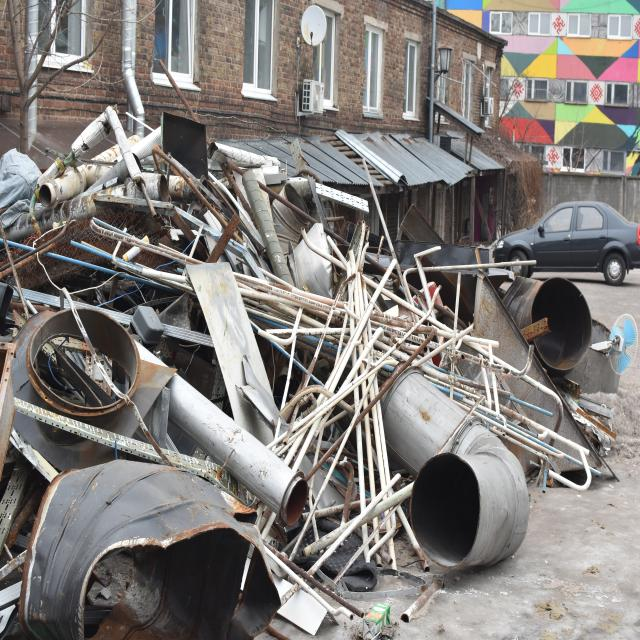entulho: (0, 103, 228, 527), (351, 215, 636, 509), (26, 450, 282, 640), (182, 266, 339, 553), (368, 354, 537, 604), (208, 146, 379, 328), (335, 254, 405, 595)
